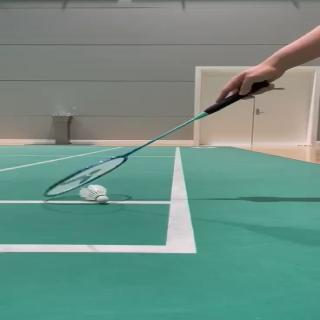Shuttle: (80, 184, 109, 203)
